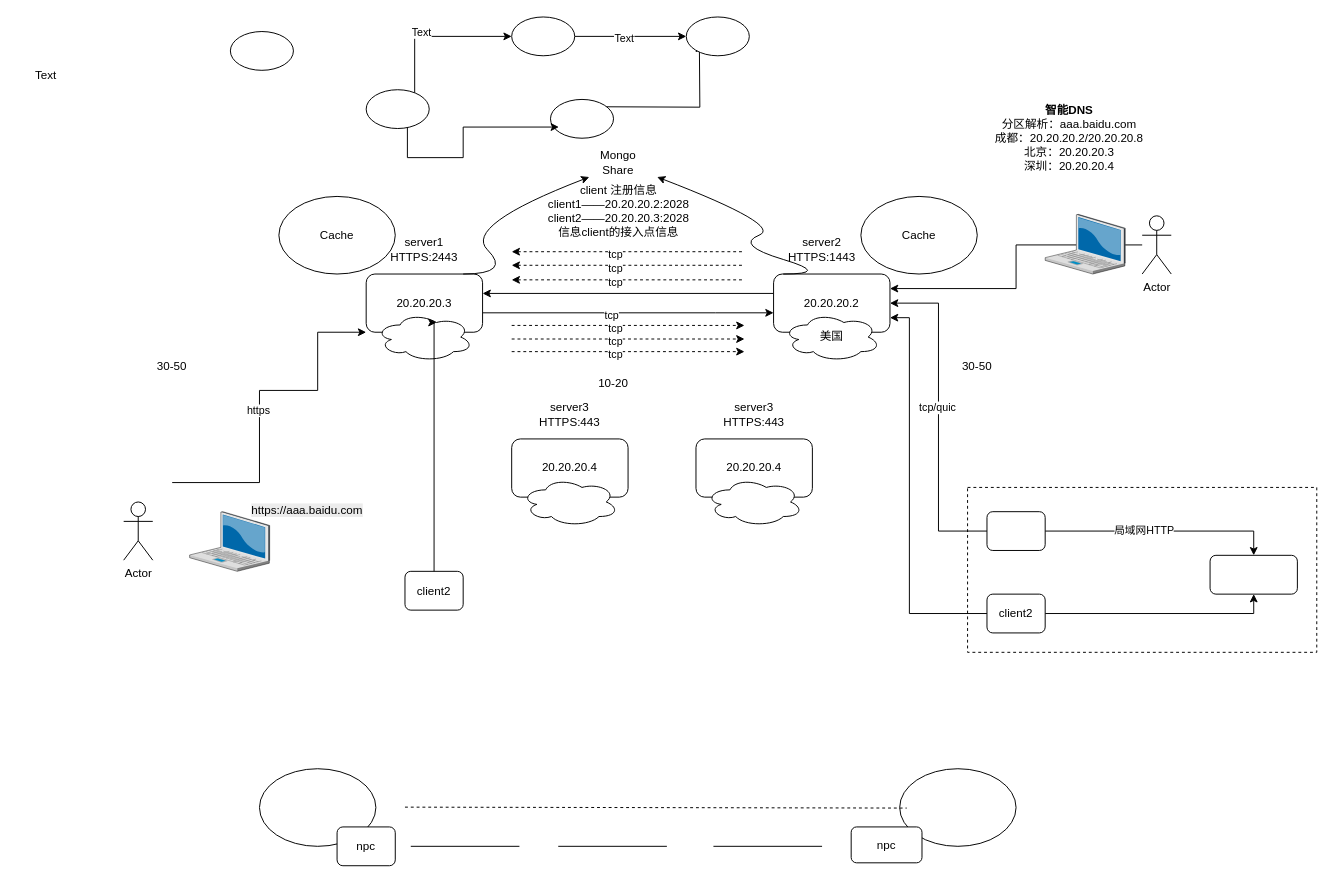
The diagram is 1334 pixels wide and 883 high, and some of its shapes have lost their labels. Each missing label, with the box of its shape:
client1: (986, 511, 1045, 550)
路由器 192.168.8.1: (1209, 554, 1297, 594)
香港: (375, 312, 473, 361)
